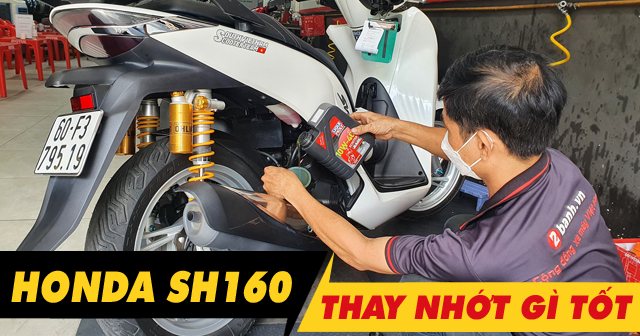Bien-so: (32, 110, 103, 174)
